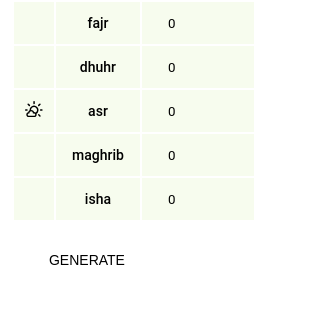
Scenario: Create schedule by prayers count › Should show error message on empty prayers count
Click the button with test id "generate-form-submit".
click(87, 260)  # box [12, 242, 162, 278]
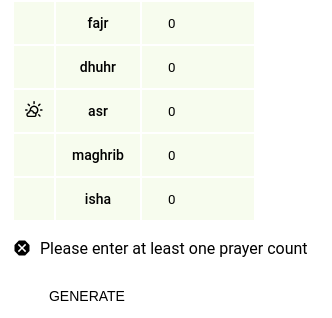
Expected: the text "Please enter at least one prayer count" is shown, [12, 238, 308, 258]
